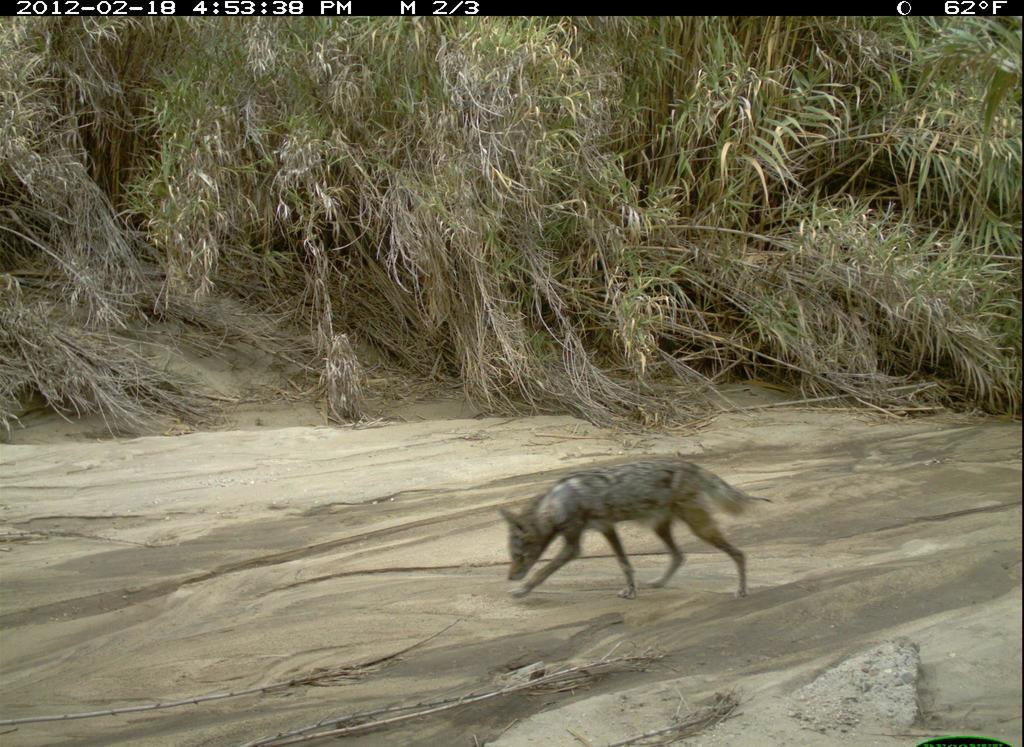coyote: (497, 457, 770, 610)
